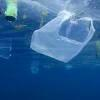Trash: (27, 3, 99, 66)
